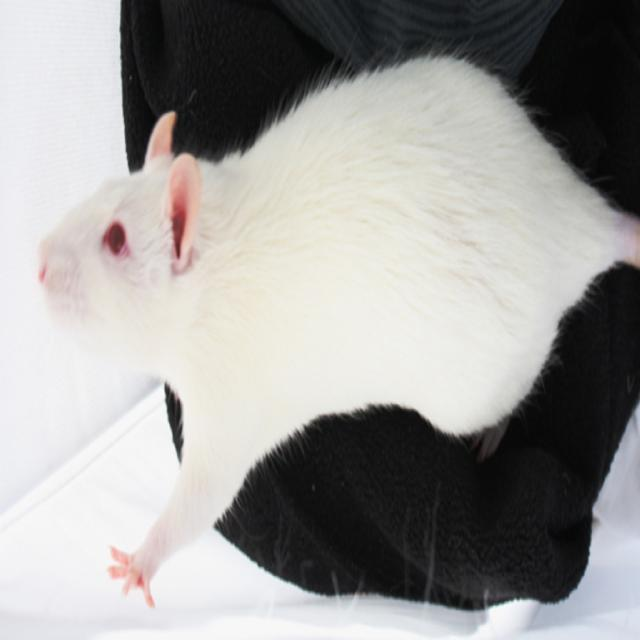rat: (38, 49, 639, 604)
